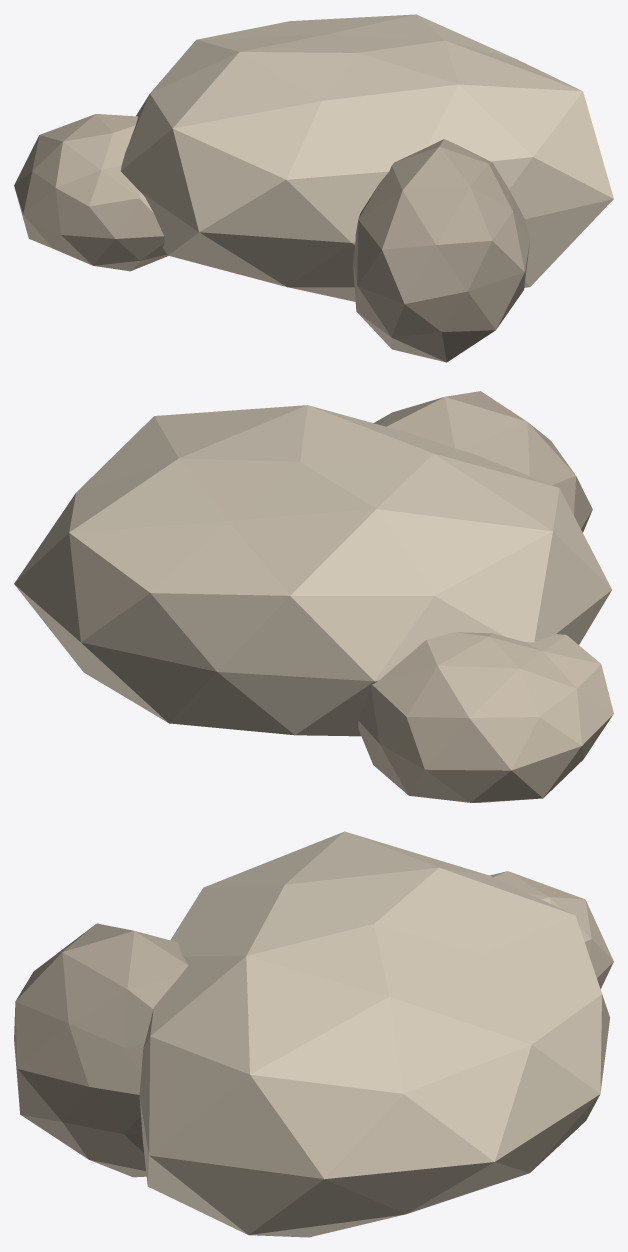
The model's file is campo_rock_cluster_0.glb.
3 views of the same model, one above another, from view 1: azimuth 30°, elevation 25°; view 2: azimuth 150°, elevation 25°; view 3: azimuth 270°, elevation 25° (orthographic). The views are drawn at different scales.
Visible parts, largest first — view 1: campo_rock_cluster_0.glb; view 2: campo_rock_cluster_0.glb; view 3: campo_rock_cluster_0.glb.
Part boxes in pixels (left/top/right/bottom): campo_rock_cluster_0.glb: left=14, top=14, right=613, bottom=362; campo_rock_cluster_0.glb: left=14, top=391, right=613, bottom=802; campo_rock_cluster_0.glb: left=14, top=831, right=613, bottom=1237.
Bounding box in the file's own units: 2.11 × 0.9149 × 1.88.
